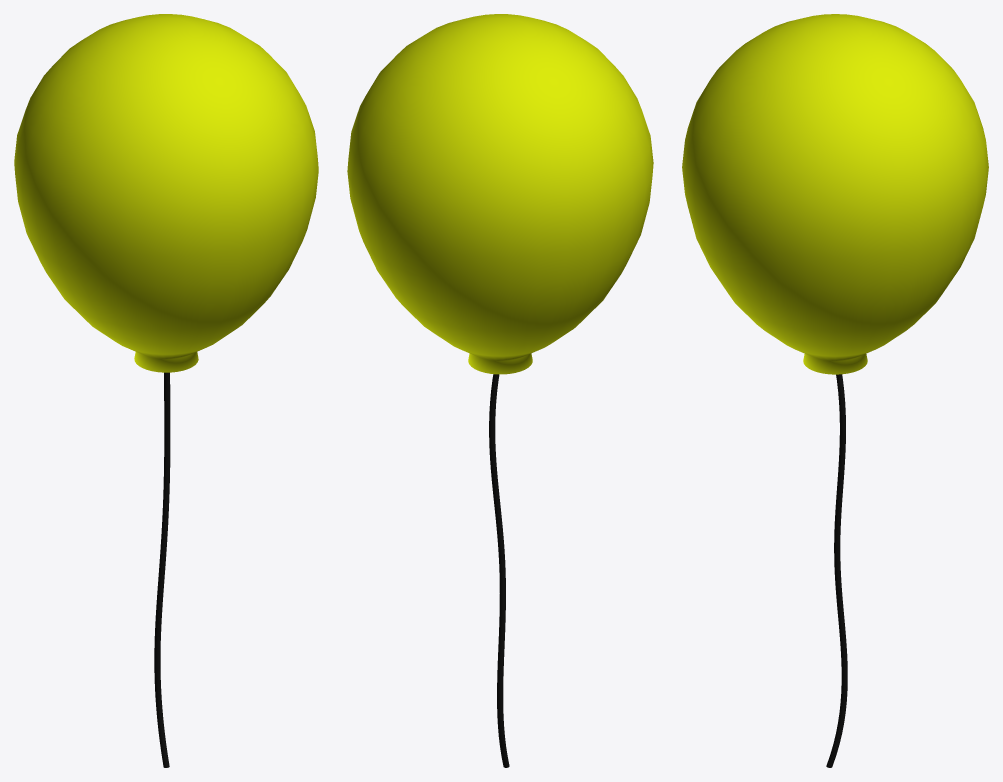
File: balloon 1.fbx
3 renders of one model, left to right at view 1: azimuth 30°, elevation 25°; view 2: azimuth 150°, elevation 25°; view 3: azimuth 270°, elevation 25°, orthographic.
Visible parts, largest first — view 1: Sphere, NurbsPath; view 2: Sphere, NurbsPath; view 3: Sphere, NurbsPath.
Boxes of the visible parts, x1,y1,x2,y2 form: Sphere: (14, 14, 318, 372); NurbsPath: (154, 372, 170, 767); Sphere: (347, 14, 653, 374); NurbsPath: (489, 374, 509, 767); Sphere: (682, 14, 988, 374); NurbsPath: (826, 374, 847, 767).
Bounding box in the file's own units: 99.24 × 264 × 99.24.
